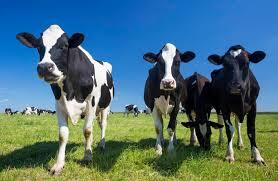cow: (15, 23, 114, 175), (207, 45, 267, 166), (142, 43, 196, 158), (182, 71, 213, 151), (124, 103, 141, 117)
